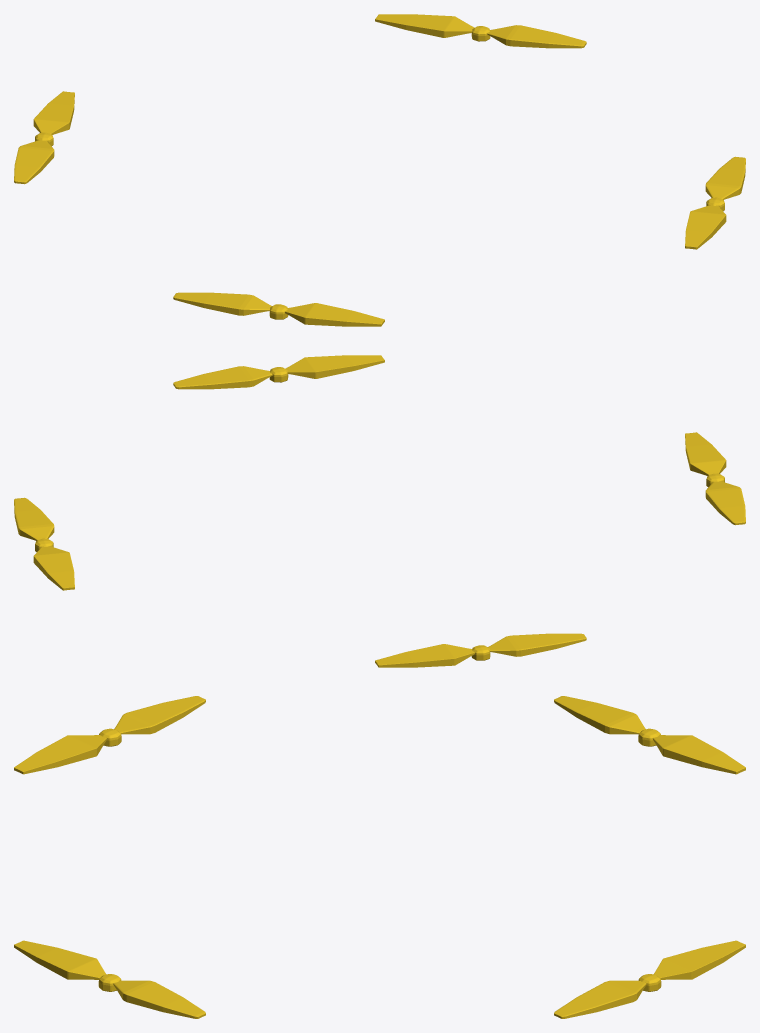
File: Baling 4.fbx
3 renders of one model, top to bottom at view 1: azimuth 30°, elevation 25°; view 2: azimuth 150°, elevation 25°; view 3: azimuth 270°, elevation 25°, orthographic. The views are drawn at different scales.
Visible parts, largest first — view 1: Cube.003; view 2: Cube.003; view 3: Cube.003.
Boxes of the visible parts, x1=… form: Cube.003: x1=14, y1=14, x2=745, y2=326; Cube.003: x1=14, y1=355, x2=745, y2=667; Cube.003: x1=14, y1=696, x2=745, y2=1018.
Size of the model in its own units: 411 by 7.36 by 397.
